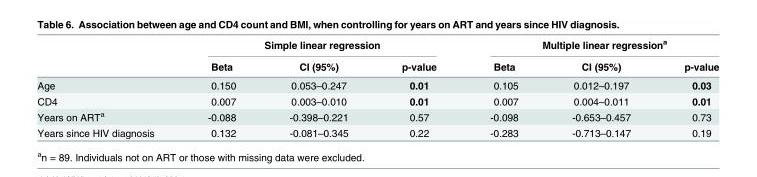table: (36, 37, 718, 138)
table column: (36, 37, 180, 138), (261, 37, 374, 138), (544, 37, 656, 138), (374, 37, 462, 138), (462, 37, 544, 138), (180, 37, 261, 138), (656, 37, 718, 138)
table column header: (36, 37, 718, 75)
table row: (36, 55, 718, 75), (36, 37, 718, 55), (36, 75, 718, 92), (36, 92, 718, 108), (36, 108, 718, 124), (36, 124, 718, 138)
table spanning cell: (180, 37, 462, 55), (462, 37, 718, 55)
